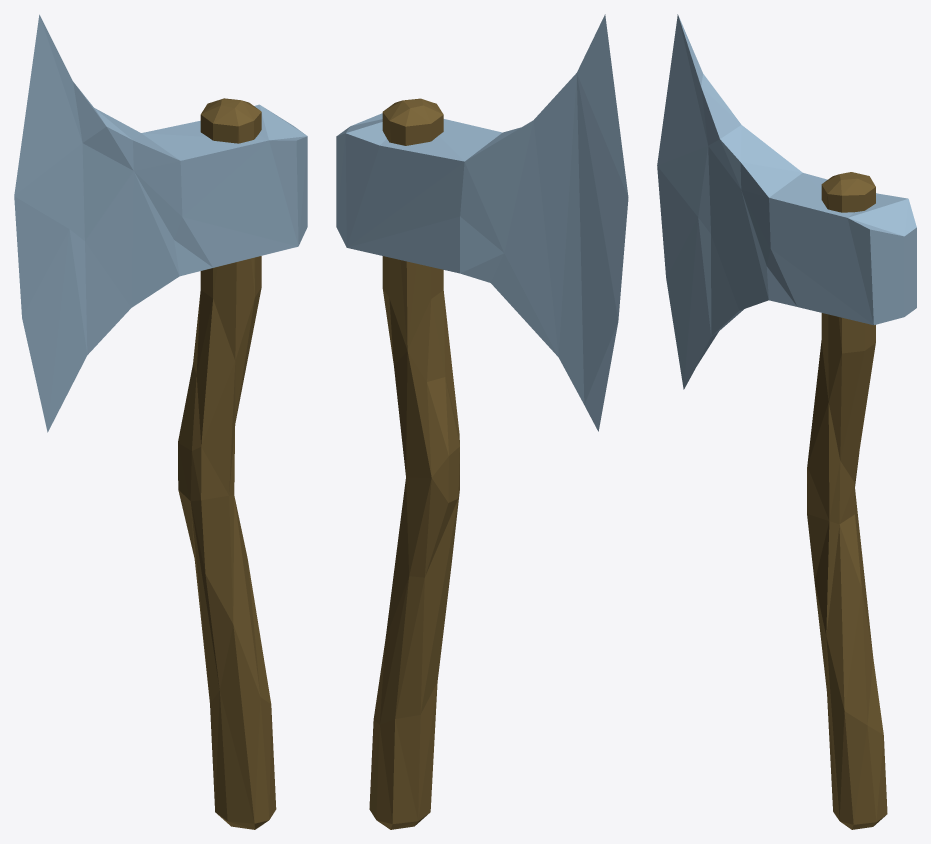
Rendered from Axe.fbx.
3 renders of one model, left to right at view 1: azimuth 30°, elevation 25°; view 2: azimuth 150°, elevation 25°; view 3: azimuth 330°, elevation 25°, orthographic. The views are drawn at different scales.
Parts seen in each view (by area): view 1: Axe; view 2: Axe; view 3: Axe.
Boxes of the visible parts, left/top/right/bottom form: Axe: left=14, top=14, right=307, bottom=829; Axe: left=336, top=14, right=628, bottom=829; Axe: left=657, top=14, right=916, bottom=829.
Size of the model in its own units: 34.8 by 99.97 by 8.65.
